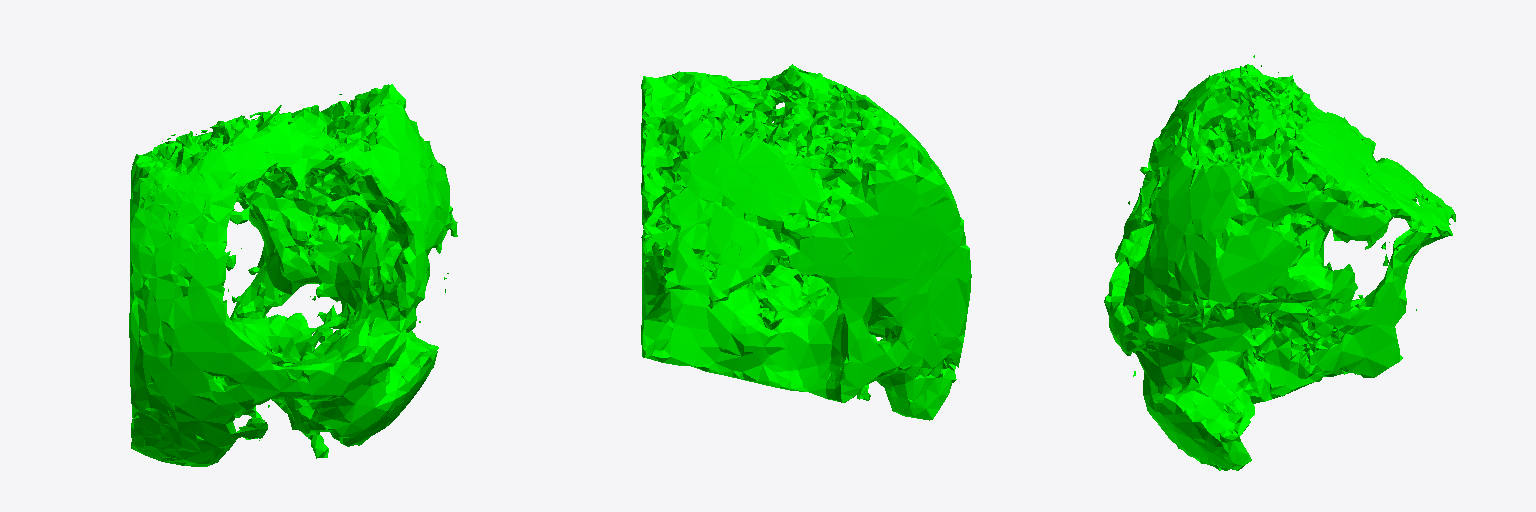
The model's file is B939XXXX-1_base_24.obj.
The picture shows the model from 3 angles: view 1: azimuth 30°, elevation 25°; view 2: azimuth 150°, elevation 25°; view 3: azimuth 270°, elevation 25°; orthographic projection.
Visible parts, largest first — view 1: 24_base; view 2: 24_base; view 3: 24_base.
Part boxes in pixels (left/top/right/bottom): 24_base: left=129, top=84, right=457, bottom=466; 24_base: left=641, top=64, right=971, bottom=420; 24_base: left=1104, top=55, right=1455, bottom=470.
Size of the model in its own units: 219 by 216 by 204.